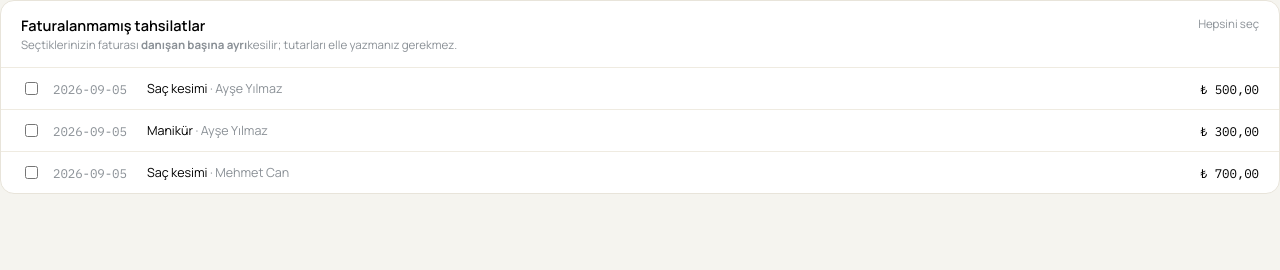
Test: TahsilattanKes › hepsini seç bütün satırları işaretliyor
The image size is (1280, 270).
Click the button "Hepsini seç": (1229, 24) [1198, 16, 1259, 31]
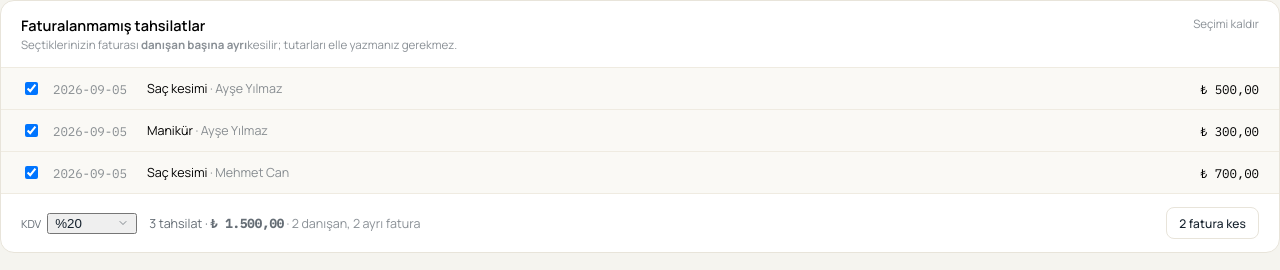
Expected: the text "3 tahsilat · ₺ 1.500,00 · 2 danışan, 2 ayrı fatura" is shown, [149, 214, 420, 232]
